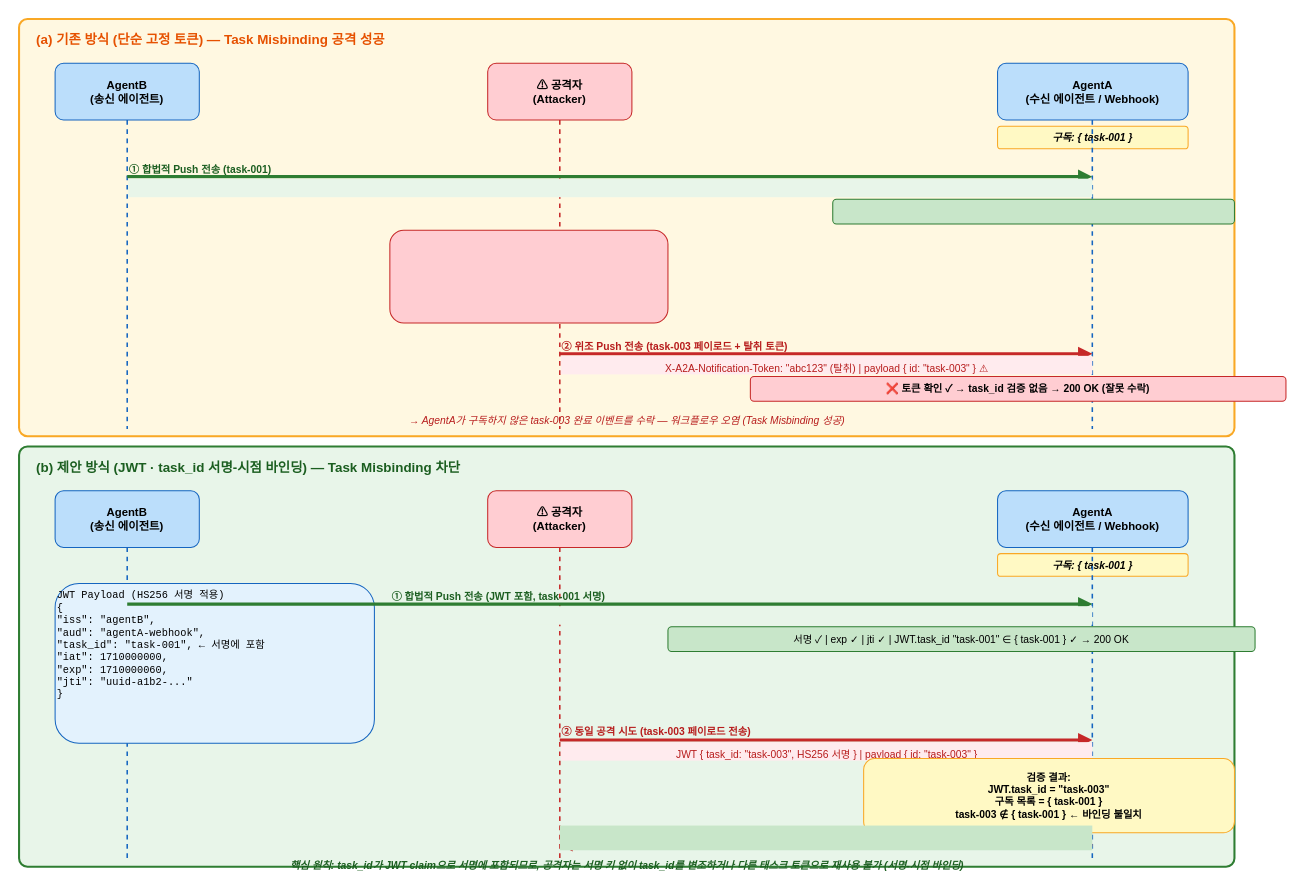
The diagram is 1304 pixels wide and 890 high, and some of its shapes have lost their labels. The shapes that lost their labels are listed below. From the top down, each one's centre as x and y in pixels, then its label:
(x=610, y=187): X-A2A-Notification-Token: "abc123" | payload { id: "task-001" }
(x=1033, y=211): 토큰 확인 ✓ → task_id 검증 없음 → 200 OK
(x=528, y=276): 🔓 토큰 탈취 "abc123" — 고정 문자열. 특정 task에 묶이지 않으므로 임의 task에 재사용 가능.
(x=740, y=615): Authorization: Bearer JWT { iss, aud, task_id:"task-001", exp, jti } · 서명: HS256
(x=825, y=837): ✅ 403 Forbidden — Task Misbinding 차단 성공
